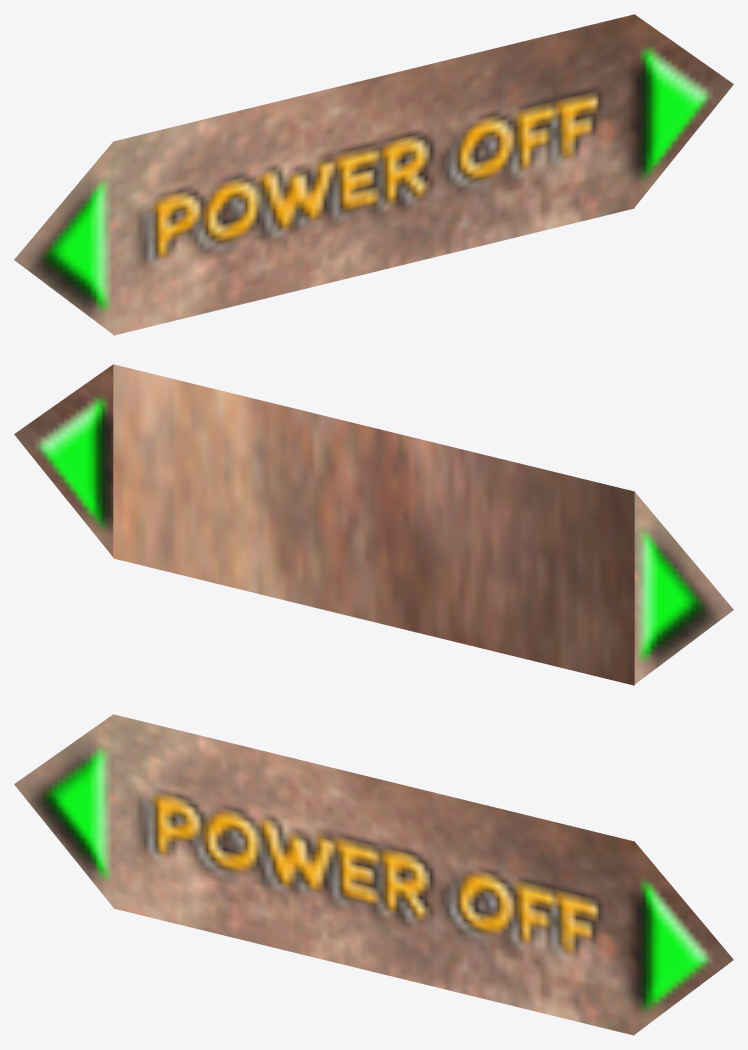
Rendered from SIGN_POWER02.glb.
3 renders of one model, top to bottom at view 1: azimuth 30°, elevation 25°; view 2: azimuth 150°, elevation 25°; view 3: azimuth 330°, elevation 25°, orthographic.
Parts seen in each view (by area): view 1: SIGN_POWER02; view 2: SIGN_POWER02; view 3: SIGN_POWER02.
Boxes of the visible parts, x1,y1,x2,y2 form: SIGN_POWER02: (14,14,733,335); SIGN_POWER02: (14,364,733,685); SIGN_POWER02: (14,714,733,1035).
Bounding box in the file's own units: 395 × 102 × 0.
Materials: 1 (1 with a texture image).
